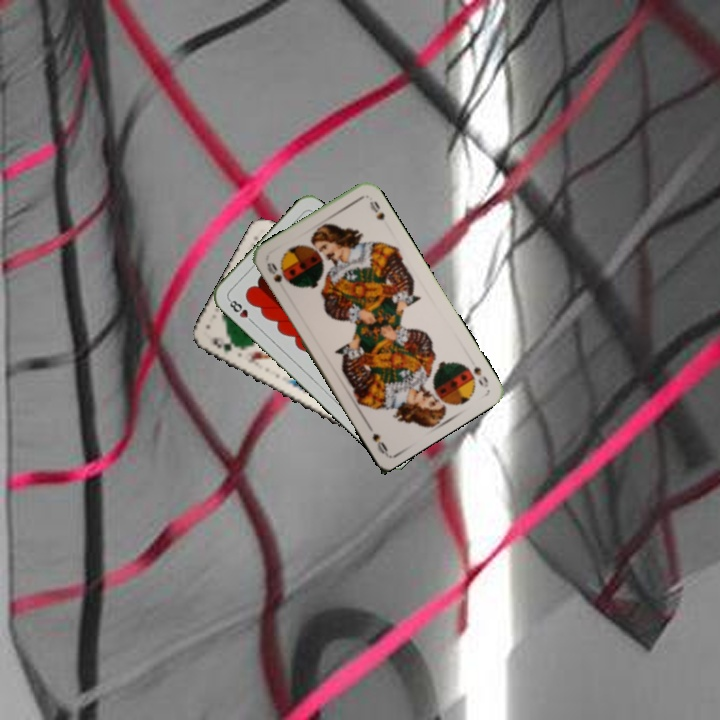GK: (208, 333, 244, 355)
H8: (224, 295, 257, 327)
SO: (263, 258, 291, 287), (463, 362, 491, 390)
